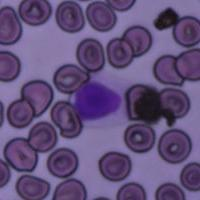L: (68, 70, 130, 129)
